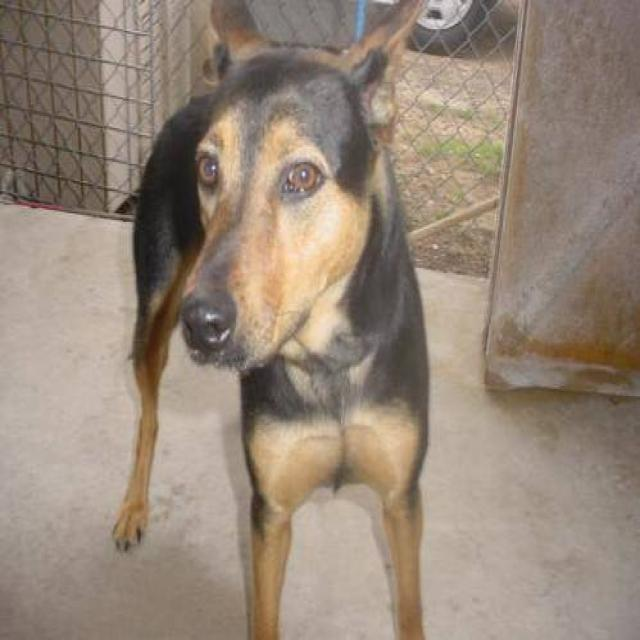relax: (127, 17, 448, 640)
